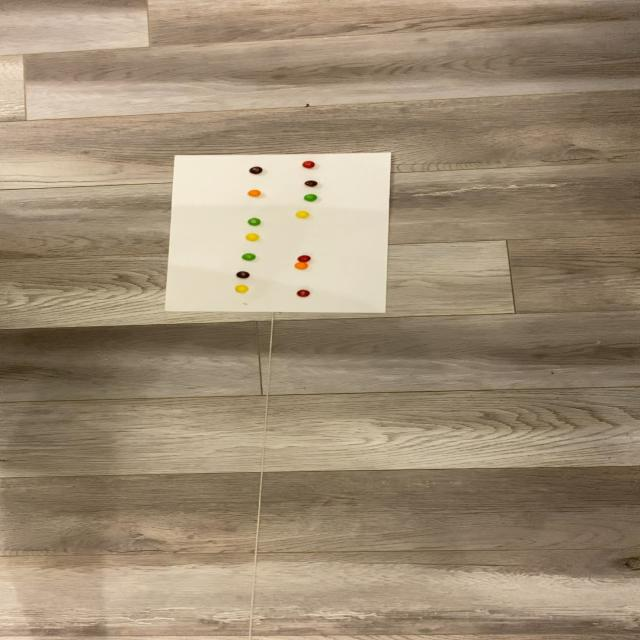smartie: (236, 270, 250, 279), (242, 252, 256, 261), (235, 285, 249, 294), (303, 194, 318, 202), (249, 166, 263, 174), (248, 190, 262, 198), (301, 160, 315, 168), (297, 255, 311, 263), (297, 289, 311, 297), (247, 217, 261, 225), (296, 211, 310, 219), (246, 233, 260, 241), (303, 180, 317, 187), (295, 262, 309, 269)
